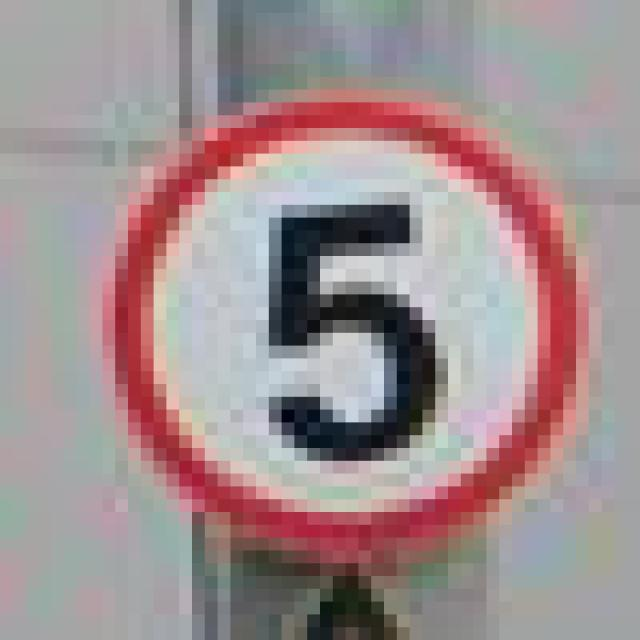speed_limit_20: (90, 77, 576, 550)
